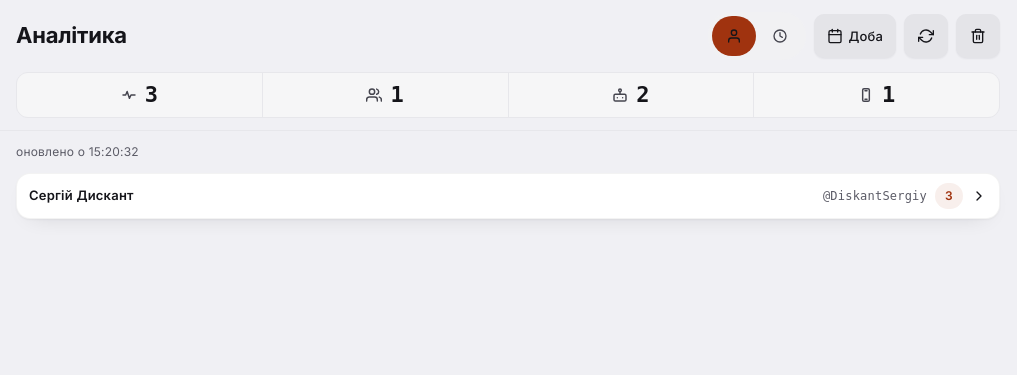
Scenario: екран «Аналітика» › «За часом» показує суцільний список із людиною в рядку
The image size is (1017, 375).
Step 1. Click the tab named "За часом" → (780, 36), box [758,16,802,56]
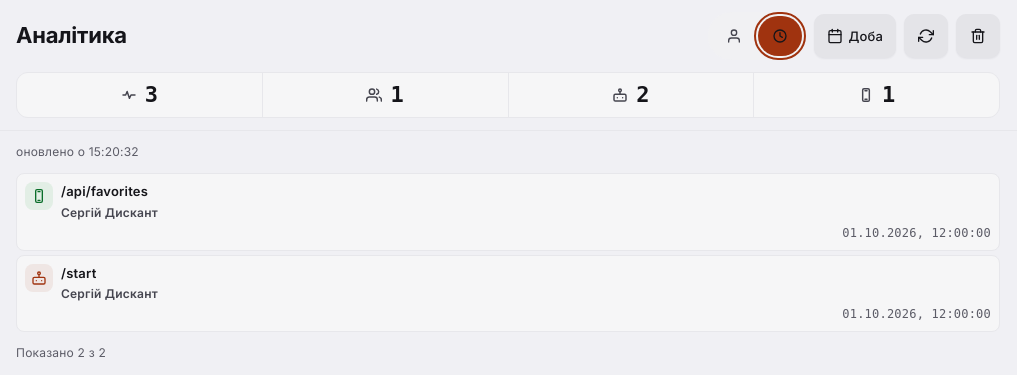
Now the text "/api/favorites" is shown, box [61,183,148,199]
Now the text "Сергій Дискант" is shown 2 times, box [61,204,158,222]; [61,285,158,303]
